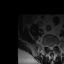CCS_normal: (50, 42, 52, 52)
LFS_normal: (54, 41, 56, 48)
LLS_normal: (52, 42, 54, 50)
RFS_normal: (46, 42, 48, 49)
RLS_normal: (48, 43, 50, 51)
